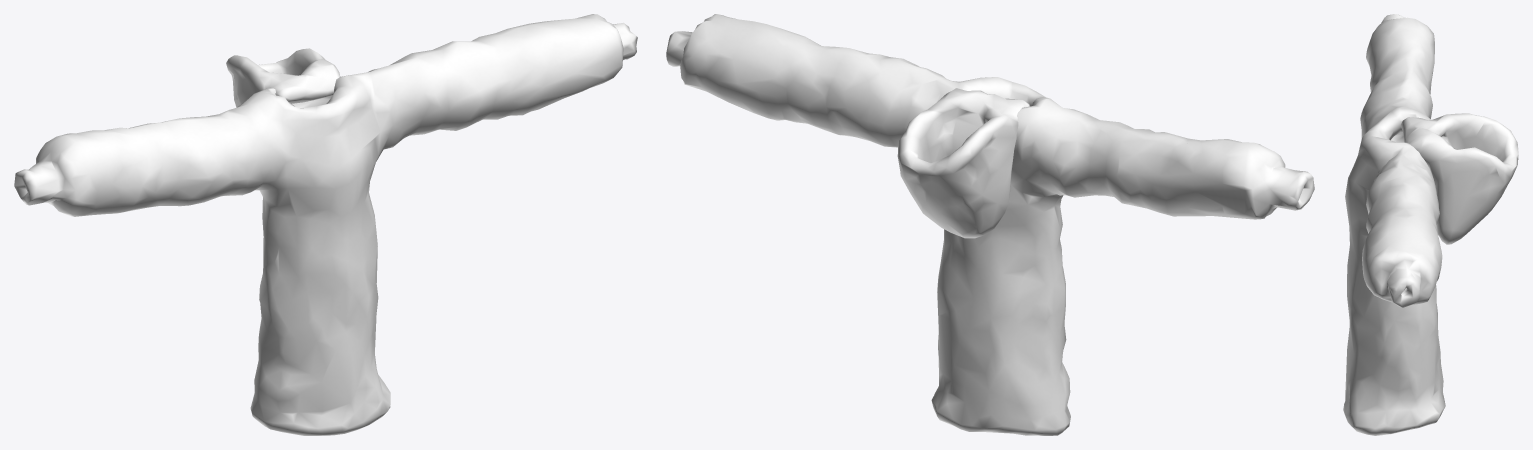
The model's file is hoodie down white.glb.
3 renders of one model, left to right at view 1: azimuth 30°, elevation 25°; view 2: azimuth 150°, elevation 25°; view 3: azimuth 270°, elevation 25°, orthographic. The views are drawn at different scales.
Parts seen in each view (by area): view 1: shirt_hoodie_down_white.001; view 2: shirt_hoodie_down_white.001; view 3: shirt_hoodie_down_white.001.
Boxes of the visible parts, x1,y1,x2,y2 form: shirt_hoodie_down_white.001: (14, 14, 637, 435); shirt_hoodie_down_white.001: (666, 14, 1314, 435); shirt_hoodie_down_white.001: (1343, 14, 1518, 435).
Bounding box in the file's own units: 0.7063 × 0.3673 × 0.1975.
Materials: 2 (2 with a texture image).
